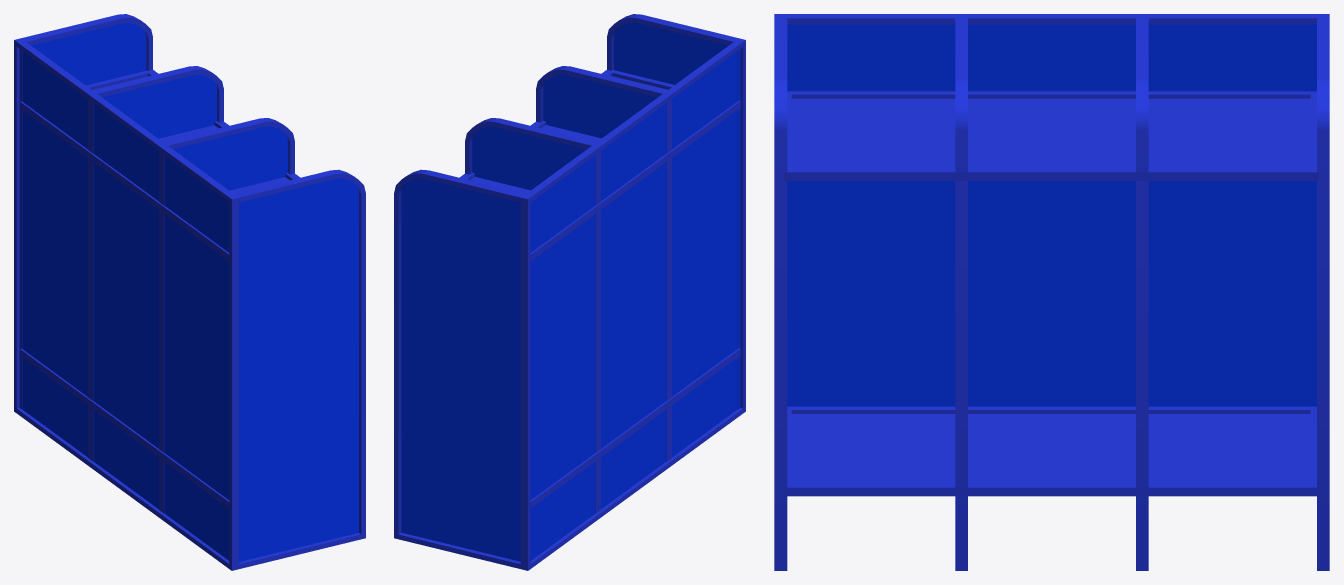
File: locker 001.fbx
3 views of the same model, side by side, from view 1: azimuth 30°, elevation 25°; view 2: azimuth 150°, elevation 25°; view 3: azimuth 270°, elevation 25° (orthographic). The views are drawn at different scales.
Visible parts, largest first — view 1: locker_21:Line013; view 2: locker_21:Line013; view 3: locker_21:Line013.
Part boxes in pixels (box(x1,y1,x2,y2)): locker_21:Line013: box(14, 14, 365, 570); locker_21:Line013: box(394, 14, 745, 570); locker_21:Line013: box(774, 14, 1329, 570).
Size of the model in its own units: 58.09 by 154 by 163.
